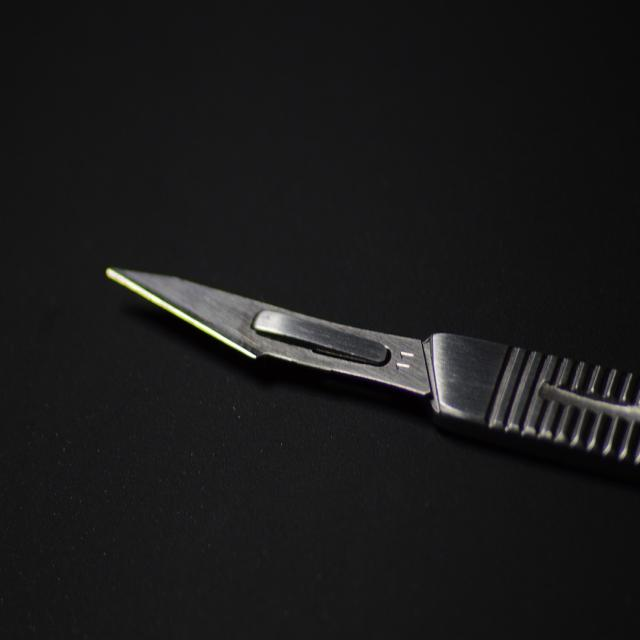Knife: (108, 268, 640, 478)
